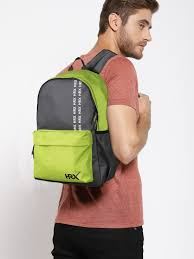backpack: (31, 48, 121, 188)
